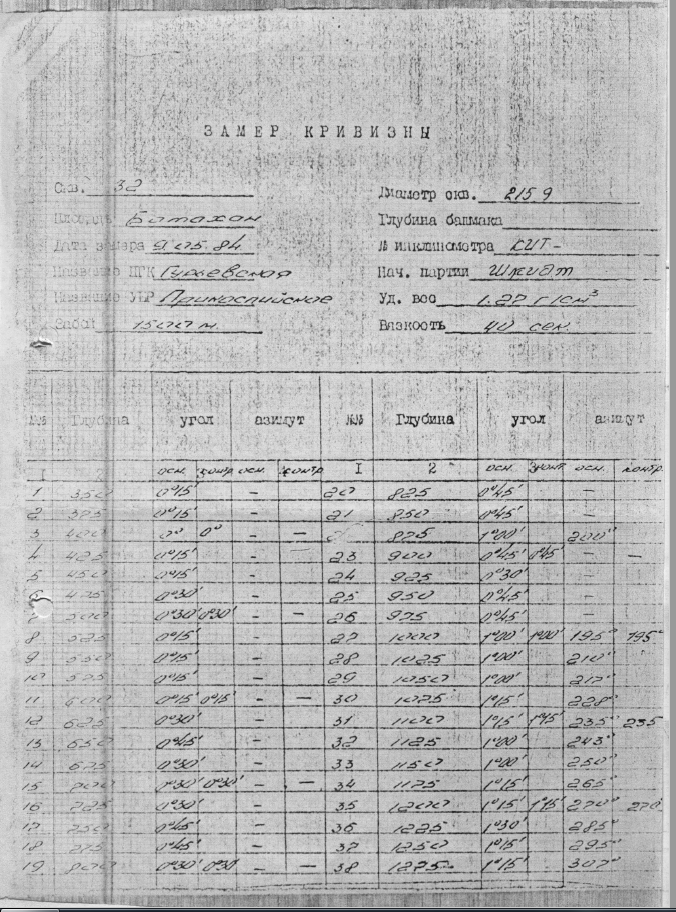Bordered: (5, 372, 676, 890)
